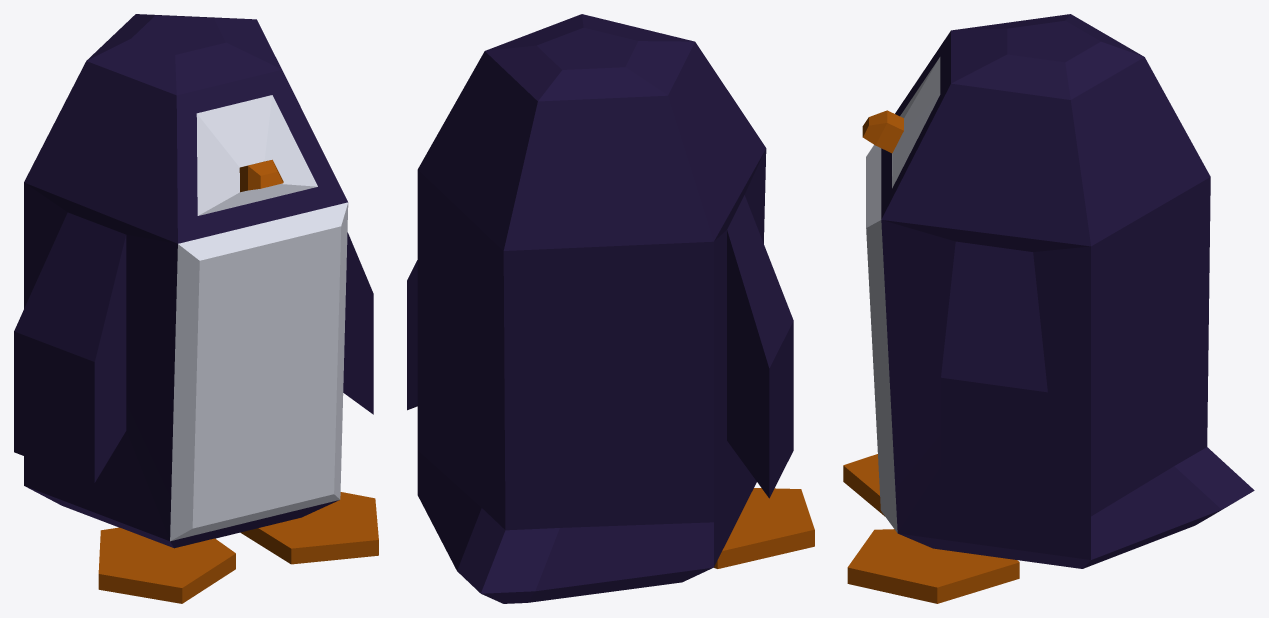
The model's file is prototype_Flip.glb.
The picture shows the model from 3 angles, left to right: view 1: azimuth 30°, elevation 25°; view 2: azimuth 150°, elevation 25°; view 3: azimuth 270°, elevation 25°; orthographic projection. The views are drawn at different scales.
Visible parts, largest first — view 1: Cylinder; view 2: Cylinder; view 3: Cylinder.
Part boxes in pixels (x1,y1,x2,y2): Cylinder: (14,14,378,603); Cylinder: (407,14,814,603); Cylinder: (843,14,1254,603).
Bounding box in the file's own units: 2.33 × 3.13 × 2.38.
